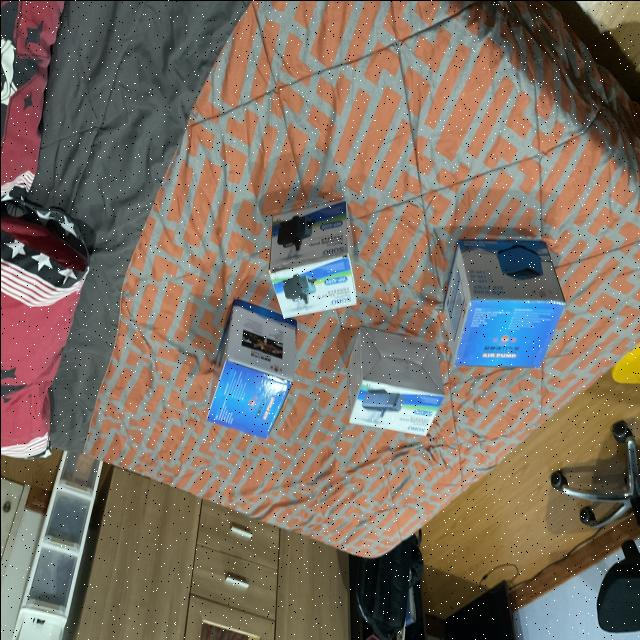SOBO_WP_4200: (334, 338, 446, 462), (248, 200, 358, 324)
YAMANO_LPP_20: (438, 238, 566, 392), (196, 304, 297, 464)
